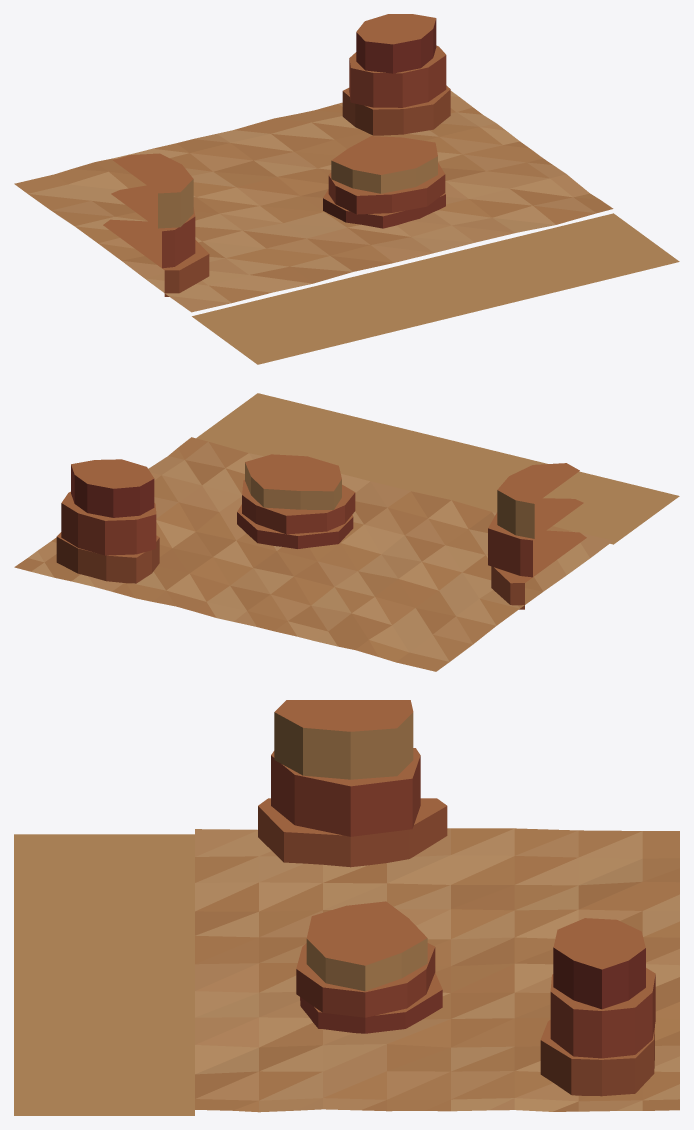
The picture shows the model from 3 angles, top to bottom: view 1: azimuth 30°, elevation 25°; view 2: azimuth 150°, elevation 25°; view 3: azimuth 270°, elevation 25°; orthographic projection. The views are drawn at different scales.
Parts seen in each view (by area): view 1: baked; view 2: baked; view 3: baked.
Boxes of the visible parts, bbox=[...] form: baked: bbox=[14, 14, 679, 364]; baked: bbox=[14, 393, 679, 671]; baked: bbox=[14, 700, 679, 1115].
Size of the model in its own units: 125 by 27.84 by 125.
